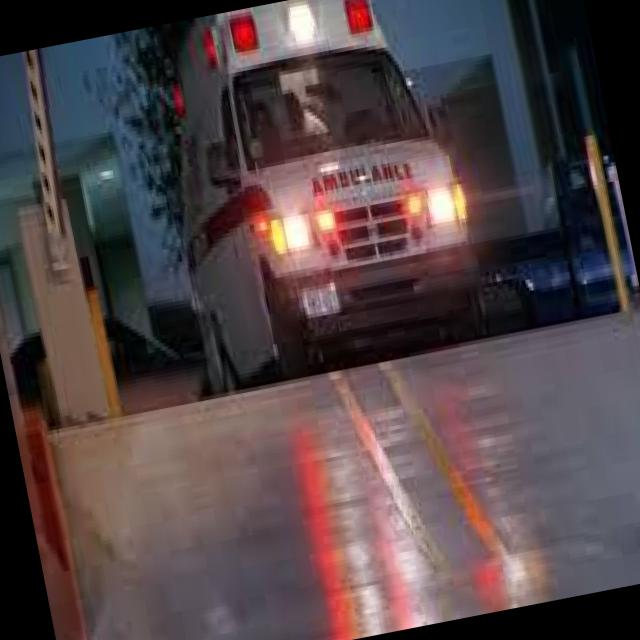ambulance: (121, 0, 504, 411)
